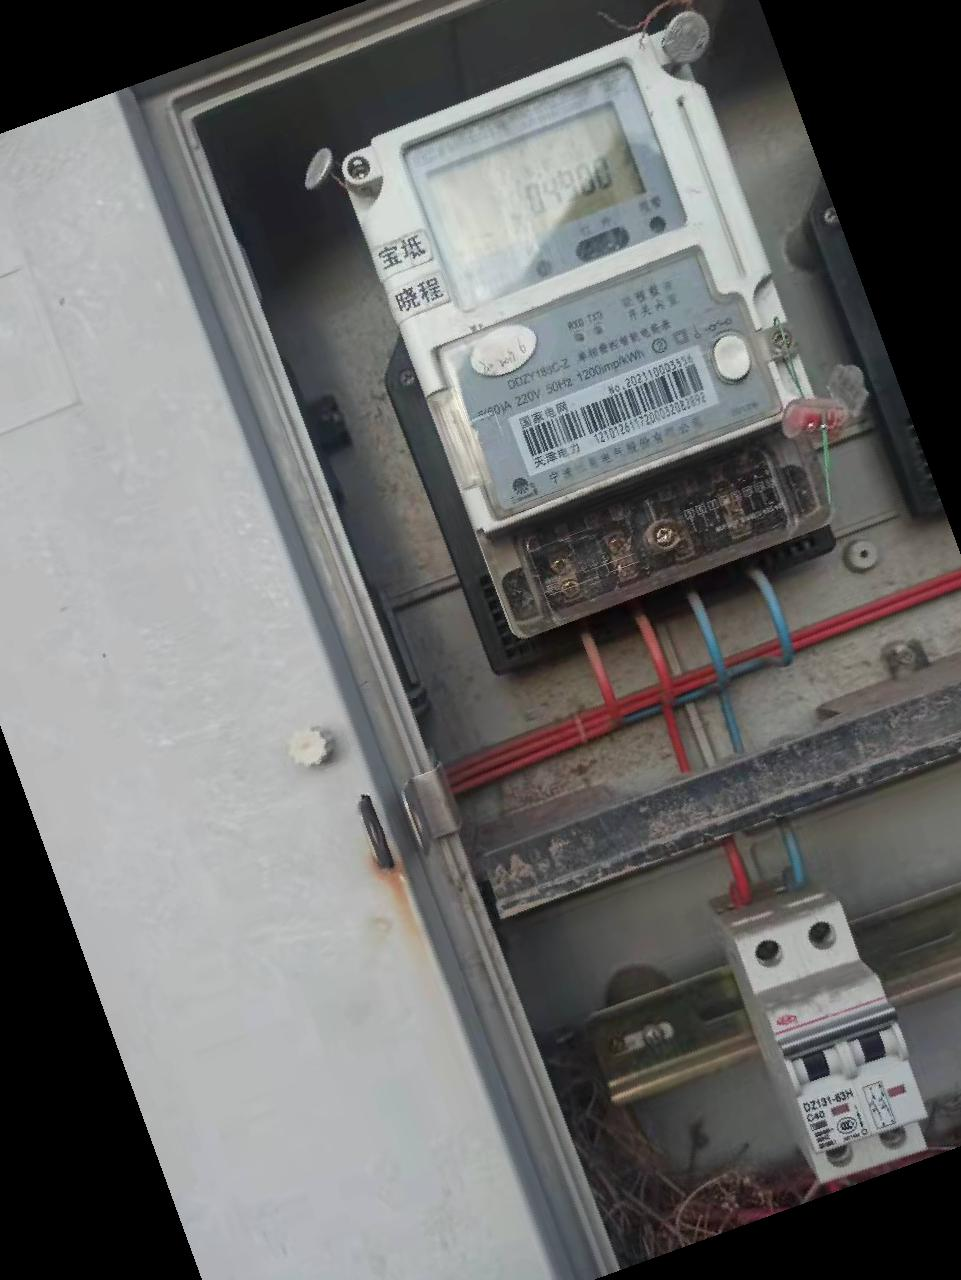digital: (350, 31, 805, 533)
